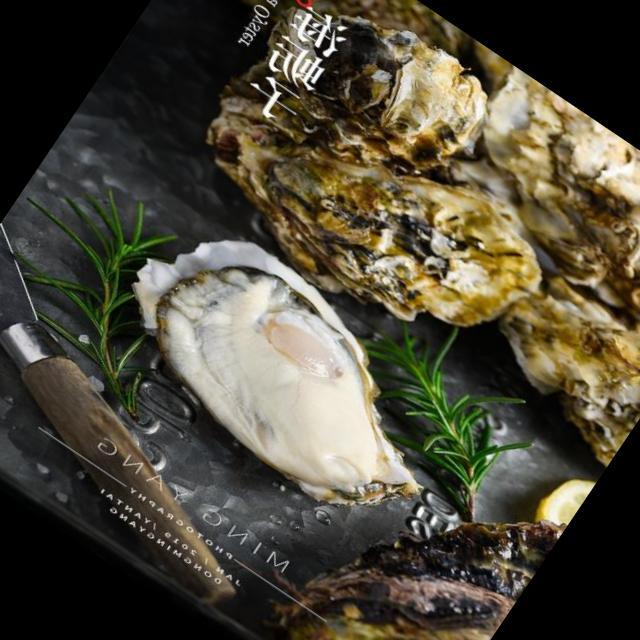Oyster- Indeterminate: (159, 35, 568, 392), (434, 63, 640, 348), (272, 0, 520, 195), (460, 215, 640, 476)
Oyster-Open: (69, 189, 483, 556)
